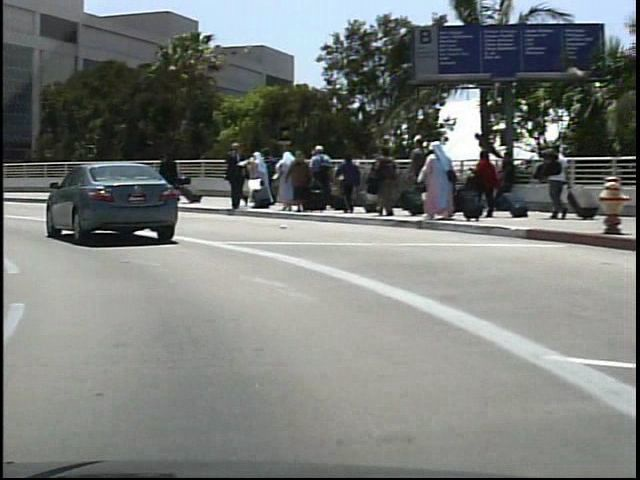person: (533, 138, 567, 224), (219, 138, 244, 215), (152, 147, 179, 212), (223, 146, 247, 209), (162, 153, 182, 196)
